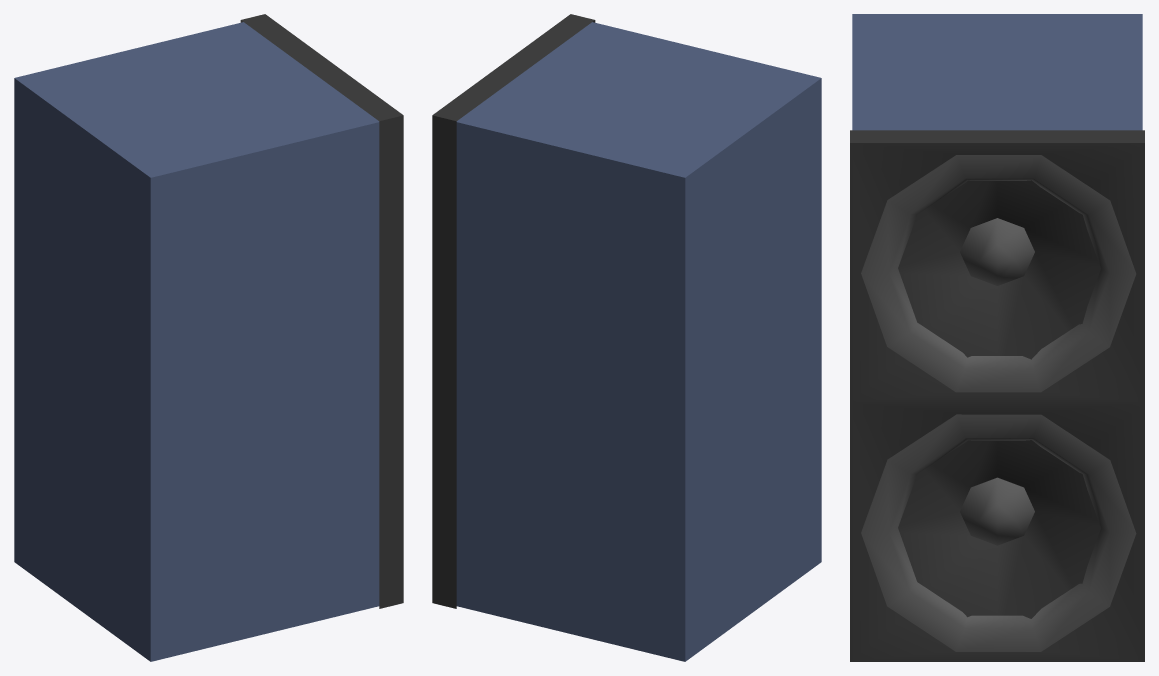
The model's file is sounds1.fbx.
The picture shows the model from 3 angles, left to right: view 1: azimuth 30°, elevation 25°; view 2: azimuth 150°, elevation 25°; view 3: azimuth 270°, elevation 25°; orthographic projection. The views are drawn at different scales.
Parts seen in each view (by area): view 1: low_poly_interior_104; view 2: low_poly_interior_104; view 3: low_poly_interior_104.
Part boxes in pixels (x1=…): low_poly_interior_104: x1=14, y1=14, x2=403, y2=661; low_poly_interior_104: x1=432, y1=14, x2=821, y2=661; low_poly_interior_104: x1=850, y1=14, x2=1144, y2=661.
Size of the model in its own units: 0.8154 by 1.5 by 0.7717.
